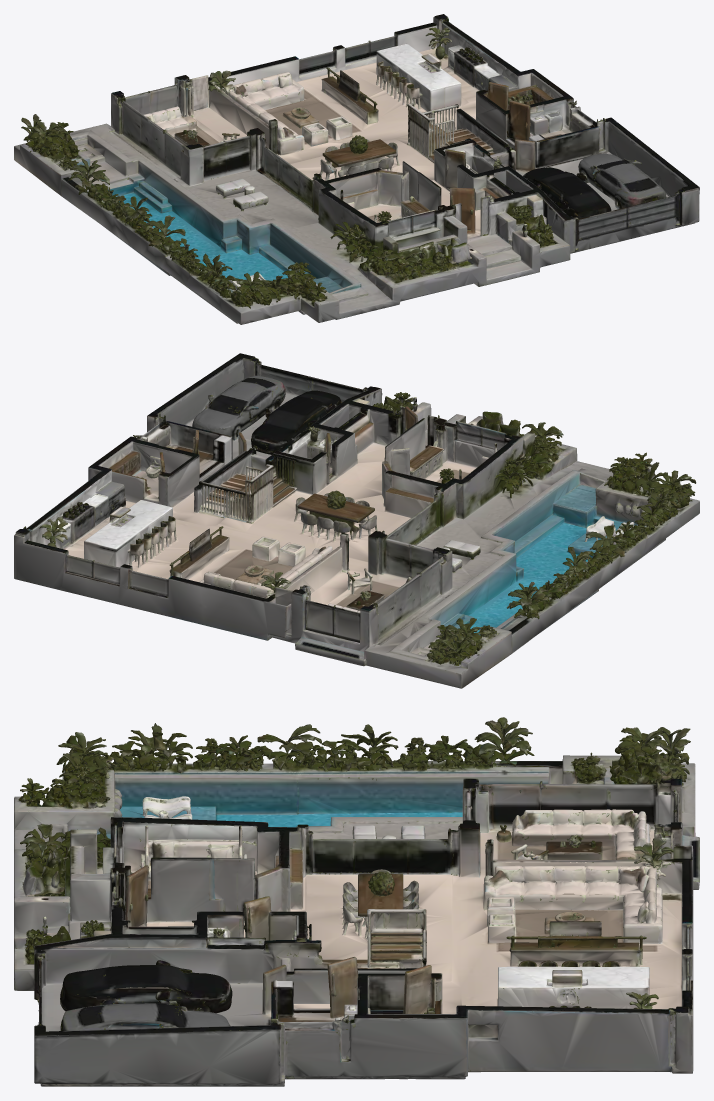
Rendered from villa-floor-plan.glb.
3 renders of one model, top to bottom at view 1: azimuth 30°, elevation 25°; view 2: azimuth 150°, elevation 25°; view 3: azimuth 270°, elevation 25°, orthographic. The views are drawn at different scales.
Parts seen in each view (by area): view 1: mesh_node; view 2: mesh_node; view 3: mesh_node.
Part boxes in pixels (x1,y1,x2,y2): mesh_node: [14, 14, 699, 324]; mesh_node: [14, 353, 699, 688]; mesh_node: [14, 717, 699, 1086].
Size of the model in its own units: 1.9 by 0.2895 by 1.76.
1 material, 1 textured.
